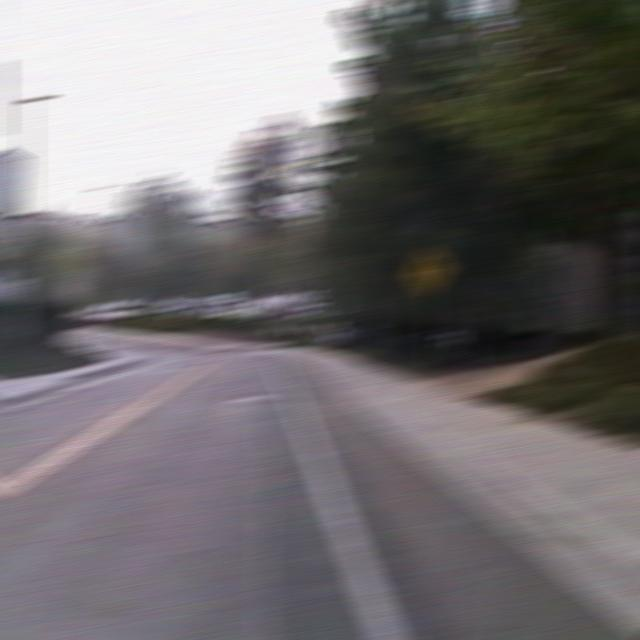pedestrianCrossing: (404, 243, 454, 297)
